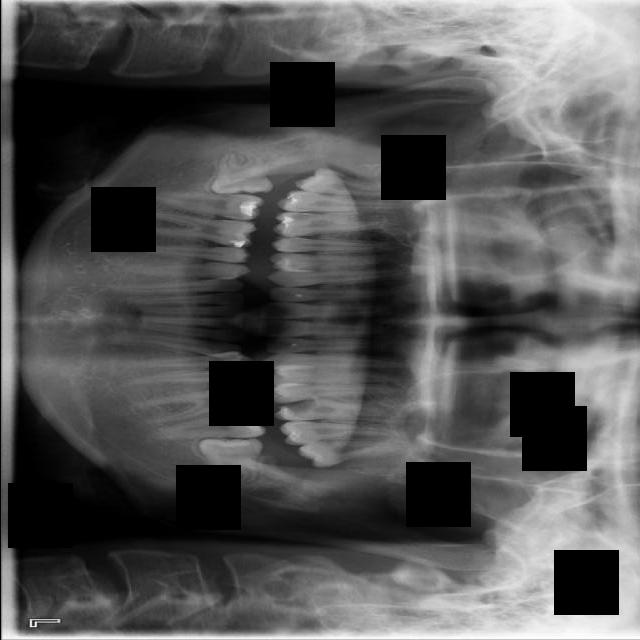3M ESPE Implant: (293, 165, 418, 204)
52: (216, 405, 267, 444), (208, 220, 257, 249), (215, 194, 263, 222), (271, 212, 320, 237), (276, 190, 326, 212), (284, 395, 316, 419), (264, 337, 309, 354), (267, 288, 311, 301), (222, 243, 234, 248)
73: (46, 567, 56, 576)
BioHorizons Implant: (279, 421, 407, 445)
BioLife Implant: (295, 432, 411, 470)
Biomet 3i Implant: (195, 436, 262, 490)
Blue Sky Bio Implant: (155, 406, 267, 449)
Caries: (275, 189, 405, 218)
Implant: (153, 190, 264, 222)
Keystone Dental Implant: (208, 147, 274, 197)
